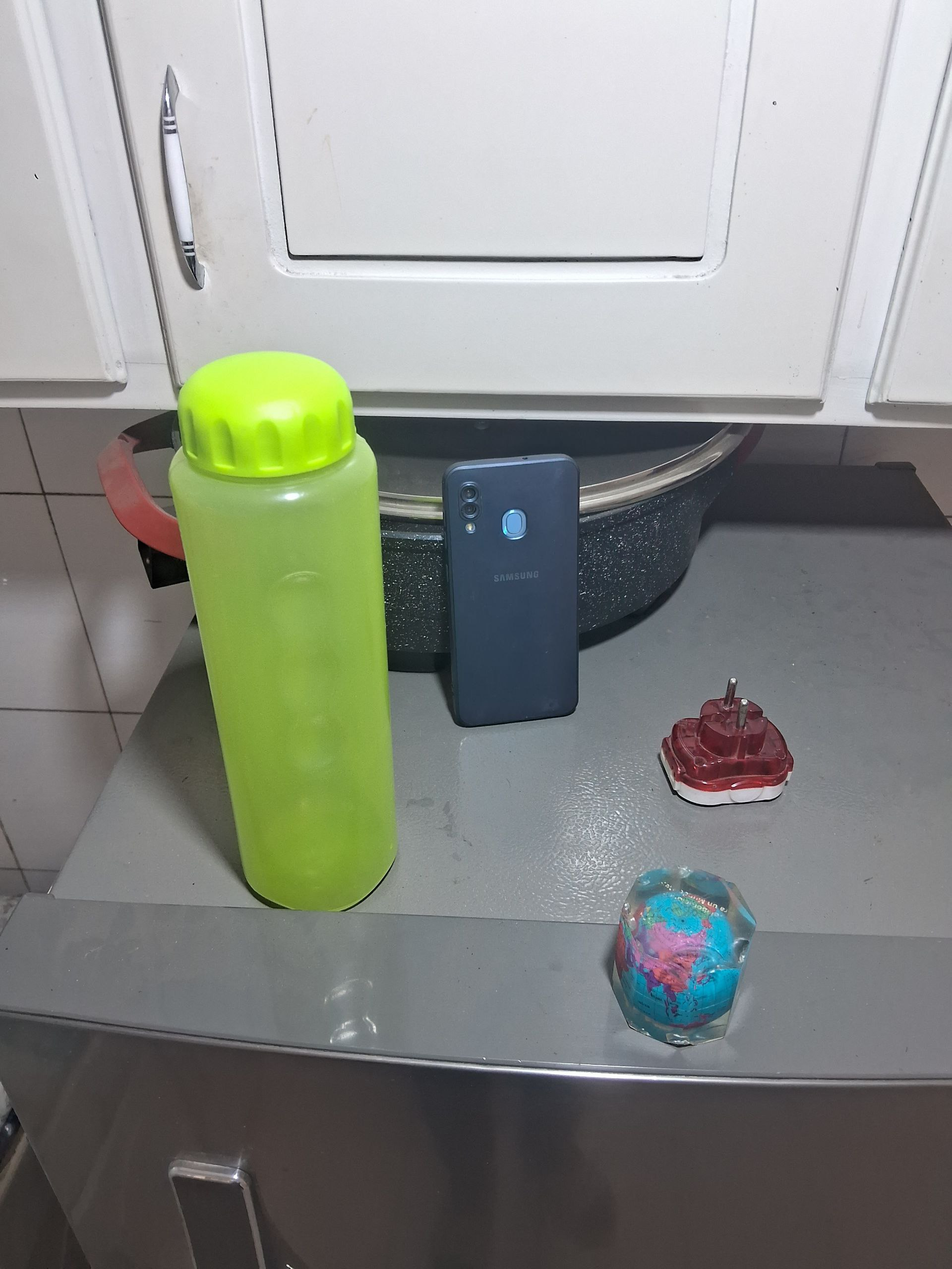Multi_adapter: (653, 672, 799, 815)
Smart_phone: (433, 444, 589, 731)
Water_bottle: (160, 344, 403, 915)
world_globe: (605, 857, 763, 1053)
